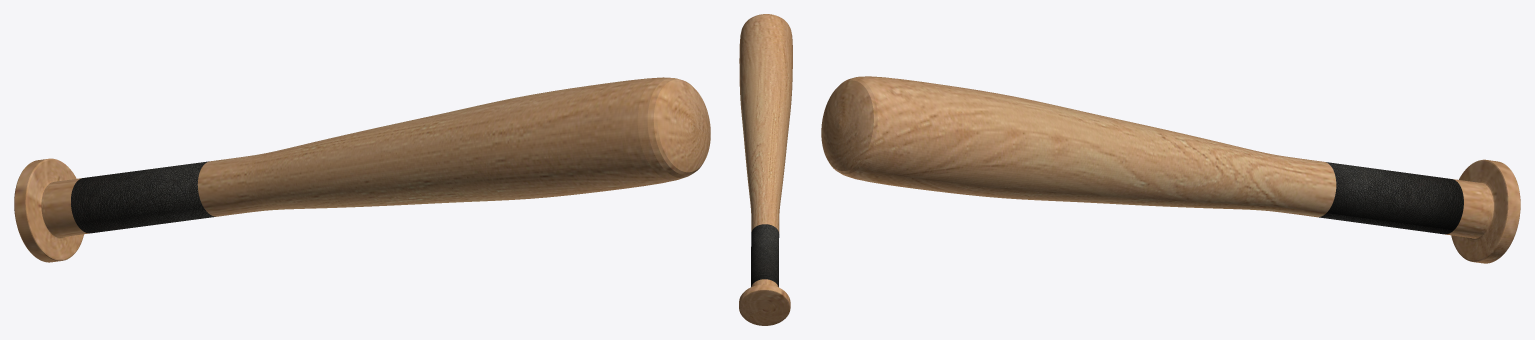
The model's file is baseball_bat.obj.
3 renders of one model, left to right at view 1: azimuth 30°, elevation 25°; view 2: azimuth 150°, elevation 25°; view 3: azimuth 270°, elevation 25°, orthographic. The views are drawn at different scales.
Visible parts, largest first — view 1: Cylinder; view 2: Cylinder; view 3: Cylinder.
Boxes of the visible parts, x1,y1,x2,y2 form: Cylinder: [14, 77, 710, 262]; Cylinder: [739, 14, 792, 325]; Cylinder: [821, 76, 1520, 263].
Bounding box in the file's own units: 2.15 × 1.71 × 3.31.
